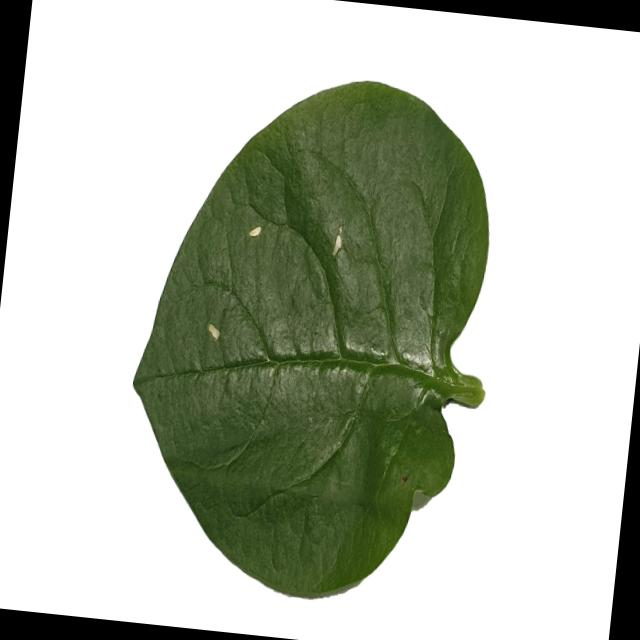Medicinal-Basale: (108, 53, 519, 613)
